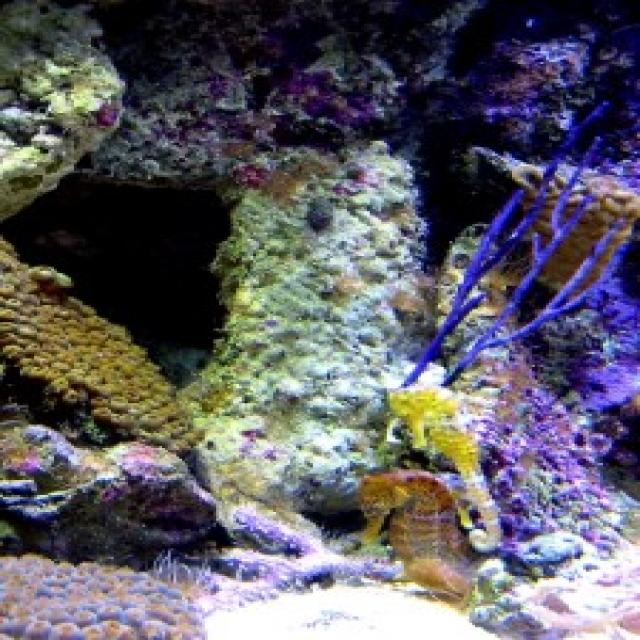Seahorse: (338, 485, 484, 603), (372, 384, 527, 481)
